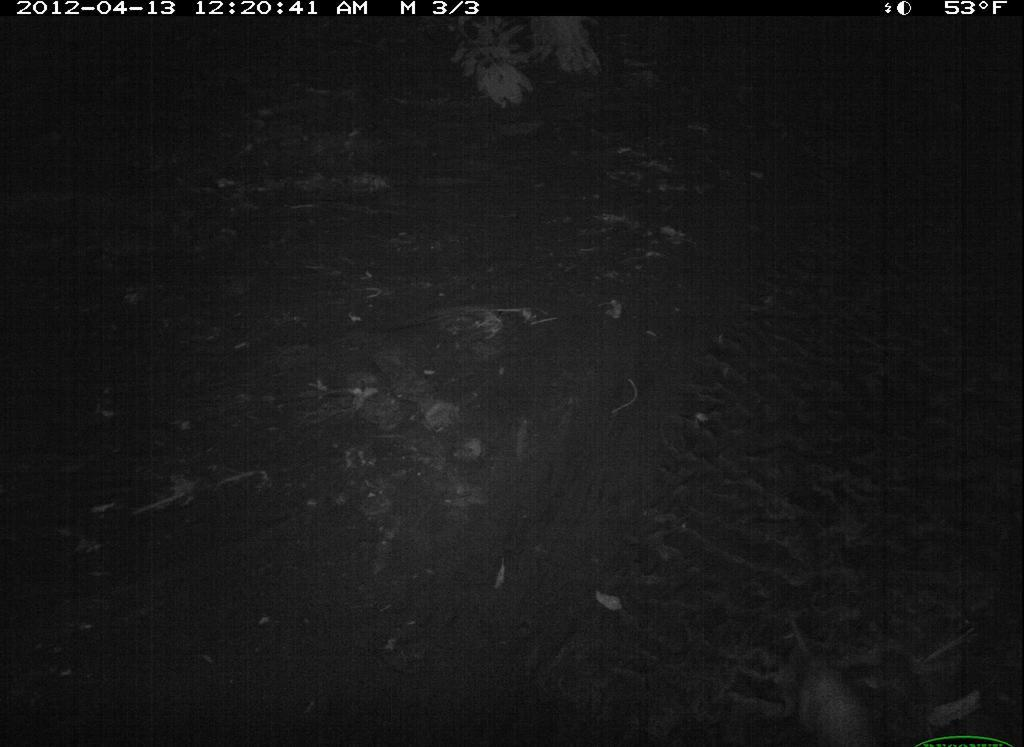opossum: (769, 577, 886, 747)
